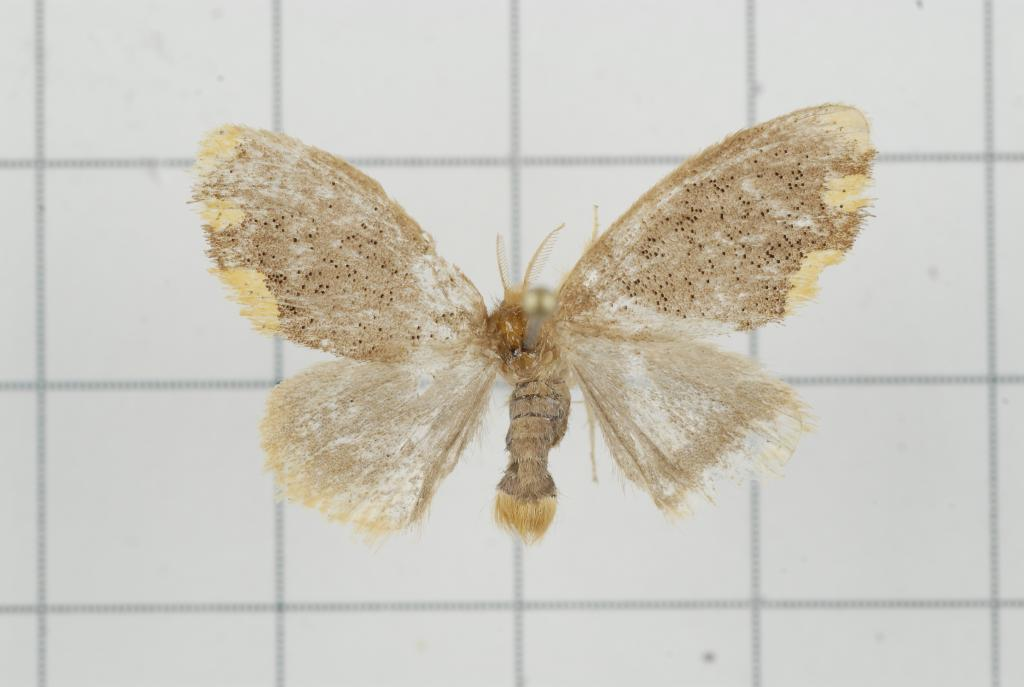Butterfly: (189, 108, 866, 539)
